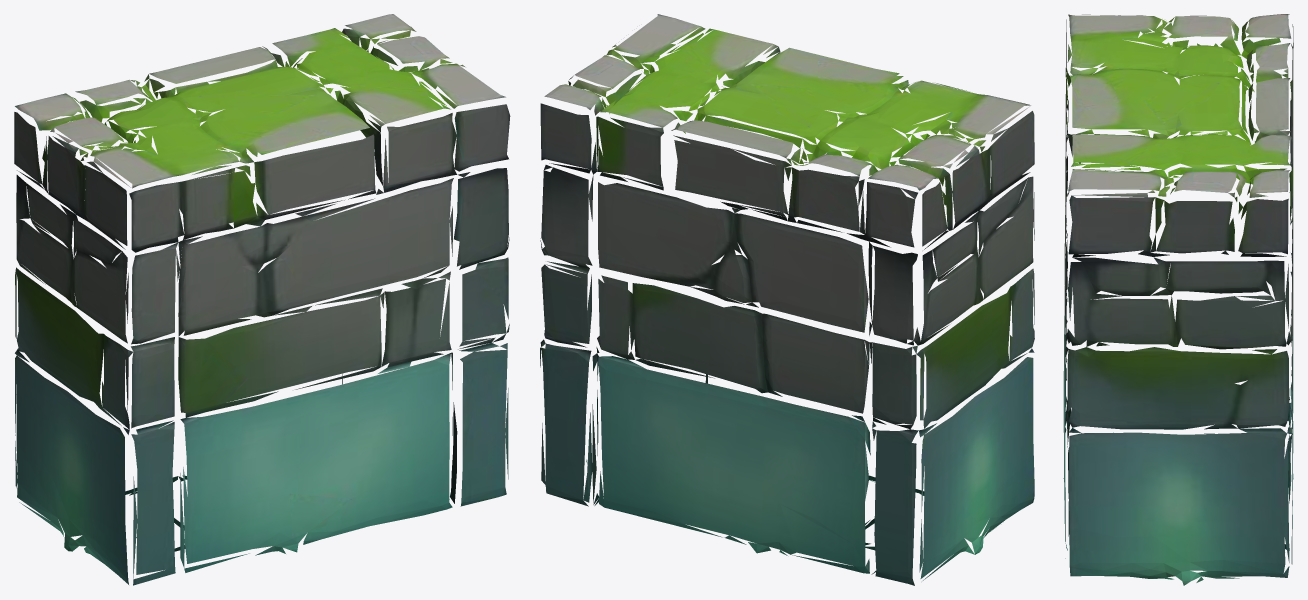
Rendered from tile_stonegrassy-2.glb.
3 views of the same model, side by side, from view 1: azimuth 30°, elevation 25°; view 2: azimuth 150°, elevation 25°; view 3: azimuth 270°, elevation 25° (orthographic). The views are drawn at different scales.
Visible parts, largest first — view 1: world; view 2: world; view 3: world.
Part boxes in pixels (box(x1,y1,x2,y2)): world: box(14, 14, 510, 585); world: box(540, 14, 1034, 585); world: box(1063, 14, 1293, 585).
Bounding box in the file's own units: 0.4919 × 0.492 × 0.2612.
Materials: 1 (1 with a texture image).
